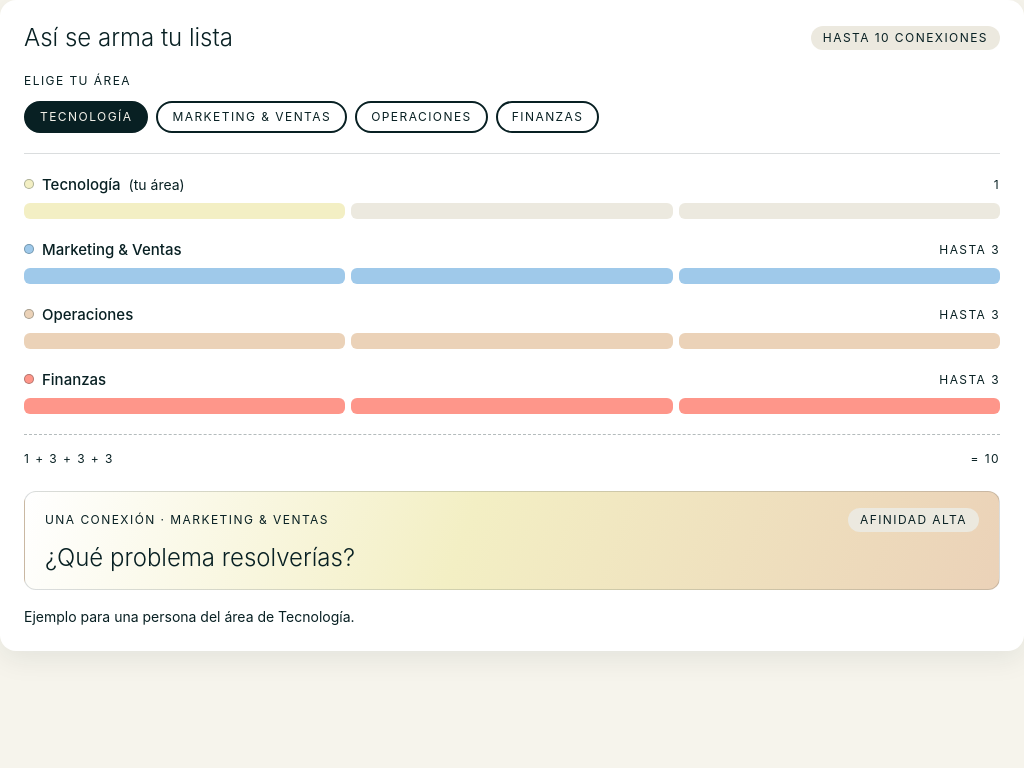
Test: PanelMatch › al elegir Marketing & Ventas el 1 pasa a esa área
Click the button "Marketing & Ventas" at (252, 117), box [156,101,347,133]
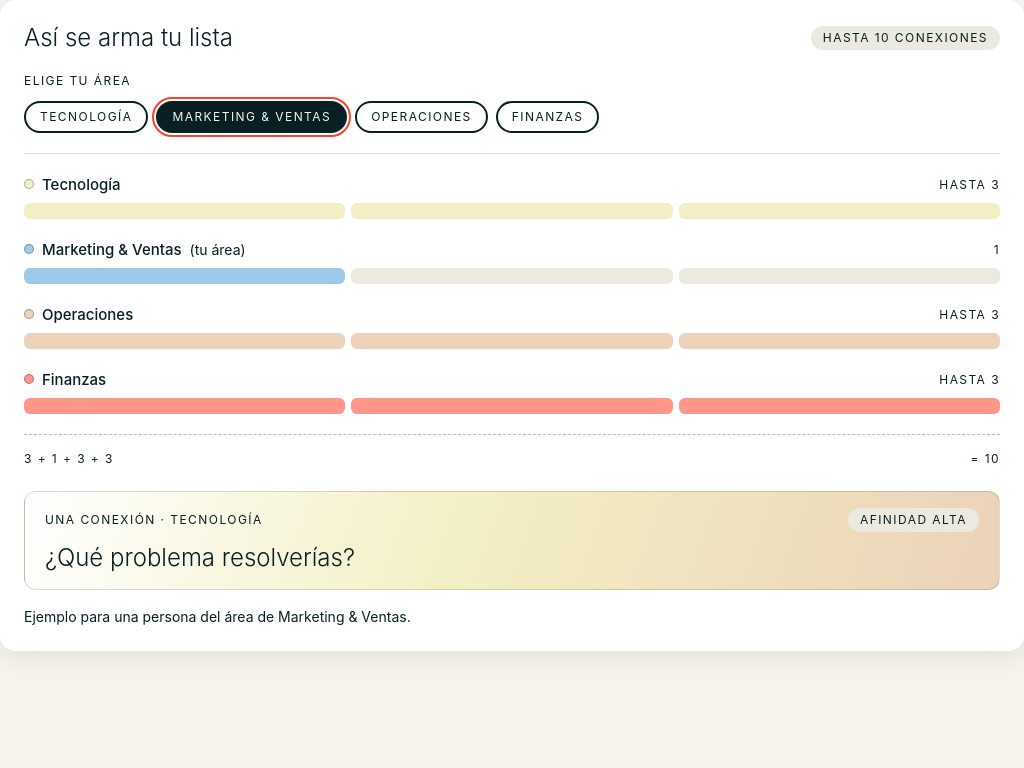
Expected: the text "tu área" is shown, [195,241,241,258]
Now the text "3 + 1 + 3 + 3" is shown, box [24,451,114,467]
